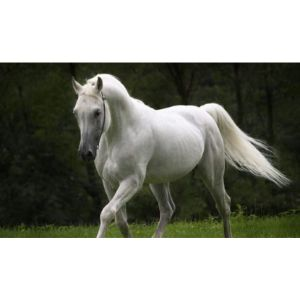horse: (67, 69, 289, 235)
